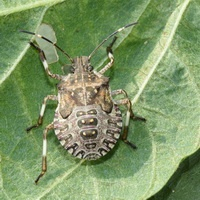insect: (21, 22, 144, 183), (89, 35, 114, 72)
